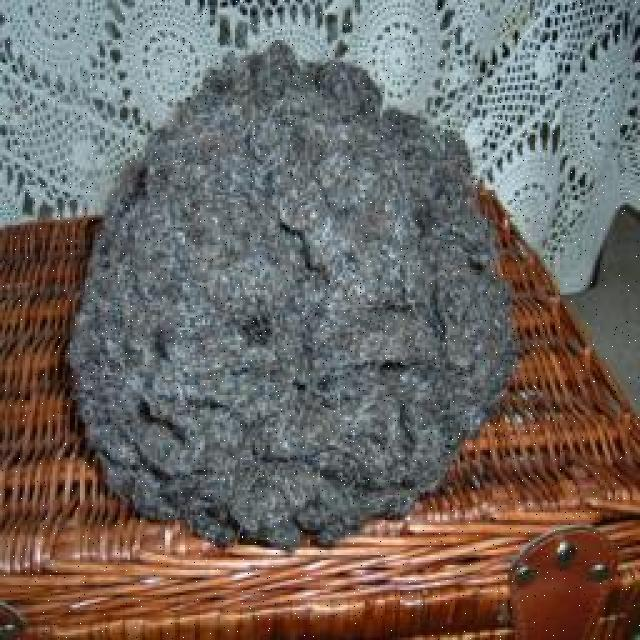sea-floor: (65, 41, 520, 550)
